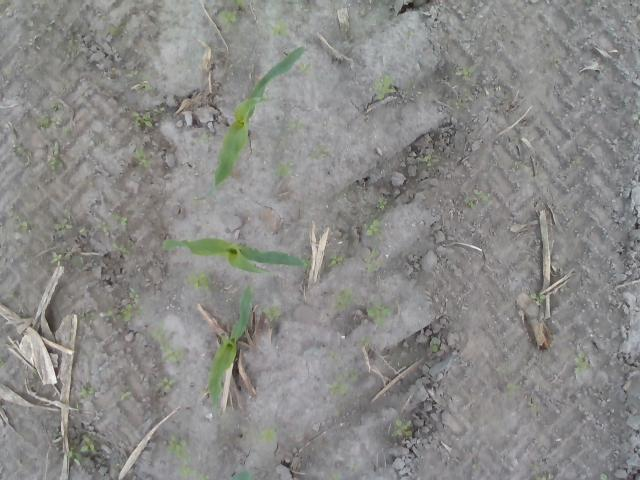Maize: (196, 48, 304, 202), (208, 285, 255, 416), (162, 236, 308, 276), (228, 471, 250, 480)
Weeds: (147, 320, 185, 363), (67, 432, 97, 465), (118, 286, 144, 322), (327, 368, 359, 396), (165, 430, 192, 462), (214, 0, 244, 27), (372, 72, 396, 101), (367, 303, 392, 329), (127, 69, 154, 92), (128, 145, 154, 168), (128, 110, 160, 128), (502, 382, 530, 401), (49, 142, 64, 176), (391, 417, 413, 440), (184, 270, 209, 290), (574, 351, 594, 376), (308, 143, 334, 162), (362, 214, 382, 238), (178, 464, 208, 480), (463, 191, 490, 208), (532, 461, 554, 480), (272, 160, 296, 177), (270, 19, 290, 39), (256, 426, 278, 444), (112, 240, 135, 257), (36, 114, 63, 128), (336, 286, 352, 309), (156, 374, 176, 392), (262, 304, 282, 322), (15, 214, 32, 234), (341, 16, 354, 41), (49, 248, 64, 268), (78, 384, 96, 400), (530, 290, 546, 305), (111, 210, 128, 224), (286, 118, 304, 131), (547, 55, 562, 70), (367, 257, 382, 272), (298, 62, 314, 76), (54, 222, 72, 234), (328, 253, 344, 266), (352, 336, 368, 349), (80, 311, 98, 322), (462, 64, 476, 78), (417, 154, 432, 167), (78, 224, 94, 236), (16, 145, 32, 157), (67, 35, 80, 49), (374, 197, 388, 210), (494, 366, 512, 376), (200, 129, 212, 144), (97, 222, 112, 234), (47, 103, 65, 113), (432, 336, 442, 353), (511, 160, 528, 170), (327, 470, 342, 480), (110, 22, 120, 36), (572, 157, 584, 168), (328, 351, 341, 361), (455, 98, 465, 110), (0, 354, 8, 368), (120, 391, 131, 401), (62, 127, 72, 137), (7, 292, 17, 301), (350, 464, 361, 472), (599, 472, 610, 480), (107, 307, 114, 319), (50, 430, 60, 438), (72, 402, 81, 410), (250, 0, 258, 6)
